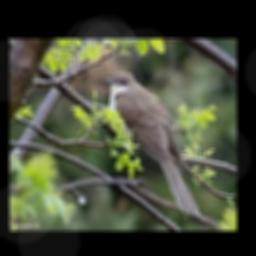Cuckoo: (102, 71, 201, 219)
